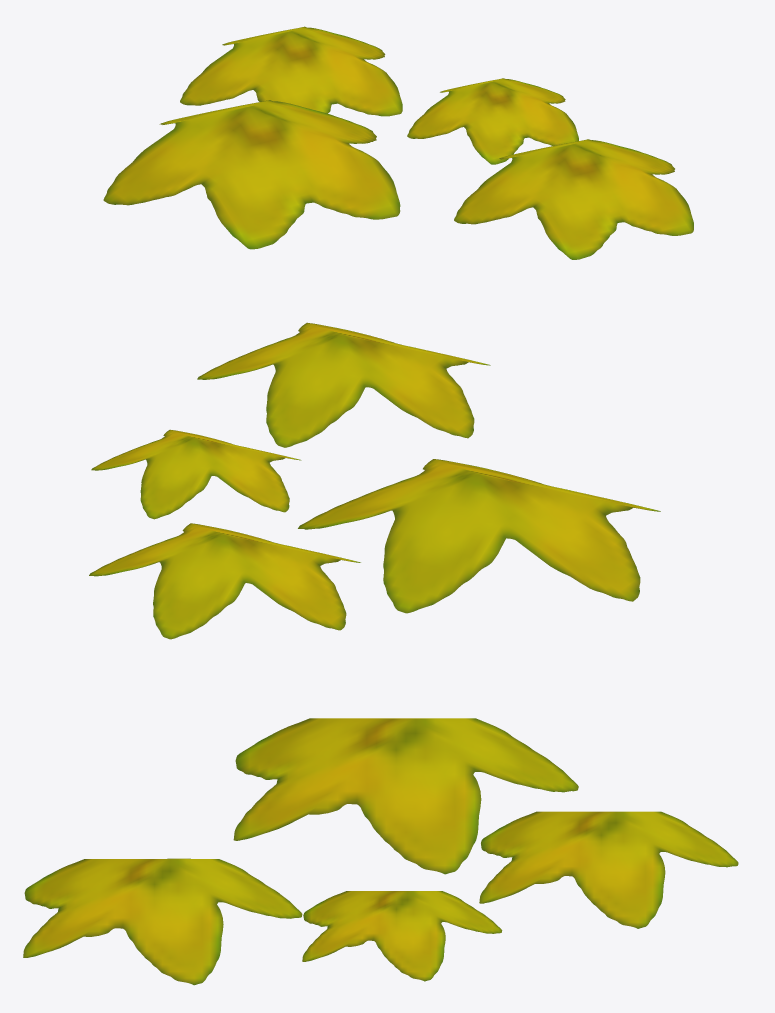
File: flower_04.FBX
3 views of the same model, one above another, from view 1: azimuth 30°, elevation 25°; view 2: azimuth 150°, elevation 25°; view 3: azimuth 270°, elevation 25° (orthographic). The views are drawn at different scales.
Parts seen in each view (by area): view 1: Plane017; view 2: Plane017; view 3: Plane017.
Part boxes in pixels (<box>): Plane017: <box>103,26,693,259</box>; Plane017: <box>89,322,660,639</box>; Plane017: <box>23,718,738,985</box>.
Bounding box in the file's own units: 89.63 × 12.81 × 101.
1 material, 1 textured.
